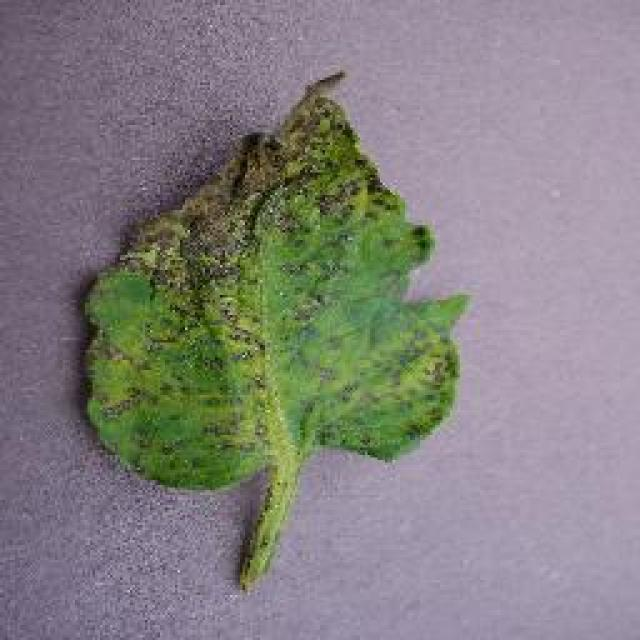Tomato Septoria spot leaf: (82, 70, 474, 487)
